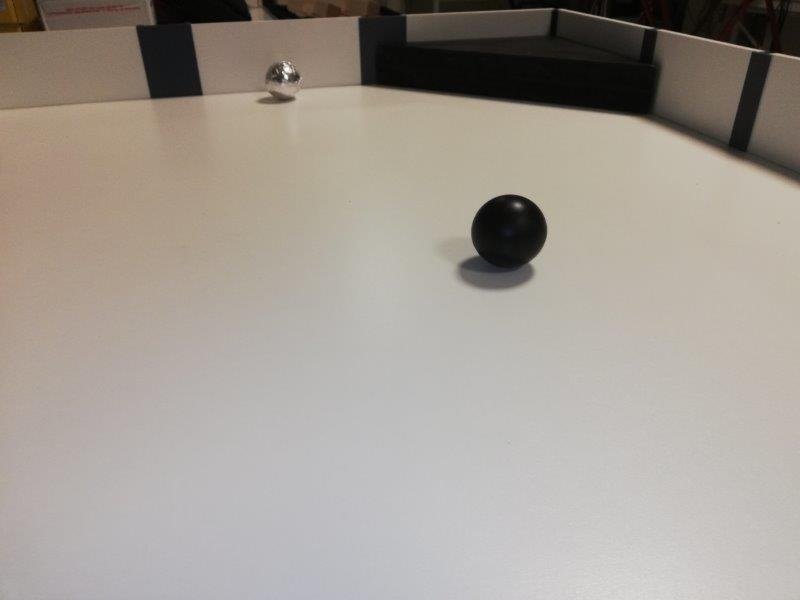bianca: (263, 61, 303, 100)
nera: (473, 193, 546, 270)
